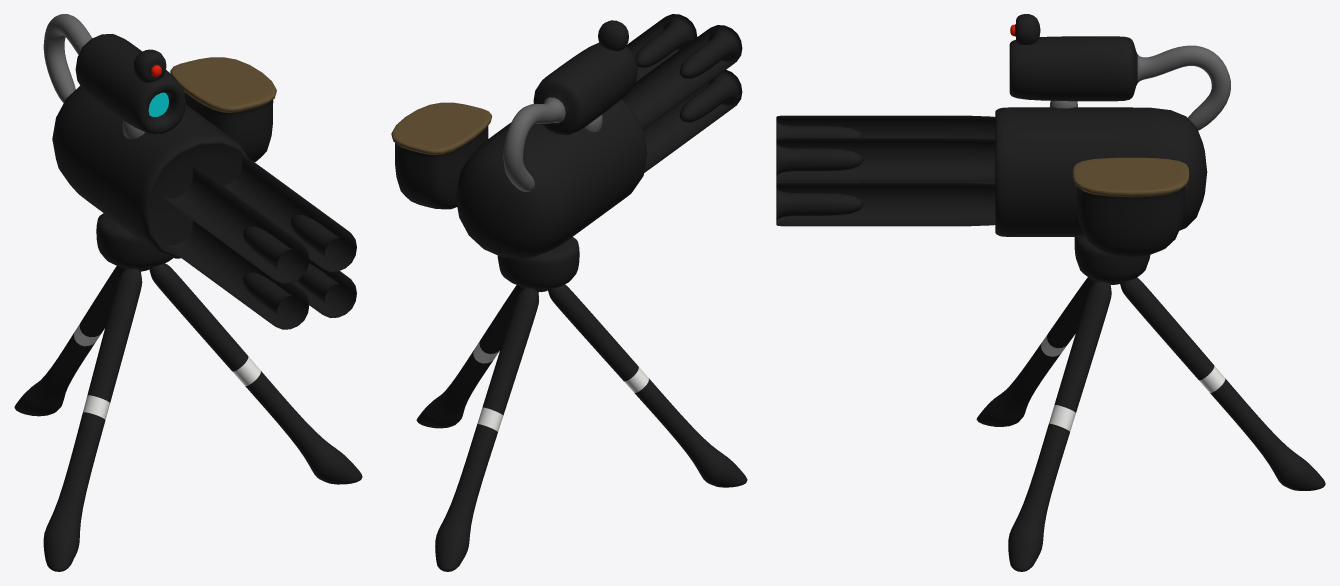
File: AutoTurret.fbx
The picture shows the model from 3 angles, left to right: view 1: azimuth 30°, elevation 25°; view 2: azimuth 150°, elevation 25°; view 3: azimuth 270°, elevation 25°; orthographic projection. The views are drawn at different scales.
Parts seen in each view (by area): view 1: Cube, Cube.001, Cube.002; view 2: Cube, Cube.002, Cube.001; view 3: Cube, Cube.001, Cube.002.
Part boxes in pixels (bbox=[...]): Cube: bbox=[43, 14, 276, 271]; Cube.001: bbox=[163, 152, 356, 329]; Cube.002: bbox=[14, 263, 362, 571]; Cube: bbox=[391, 20, 647, 291]; Cube.002: bbox=[416, 284, 747, 571]; Cube.001: bbox=[621, 14, 742, 172]; Cube: bbox=[995, 14, 1230, 284]; Cube.001: bbox=[776, 115, 995, 226]; Cube.002: bbox=[976, 277, 1325, 571].
Bounding box in the file's own units: 526 × 725 × 787.
